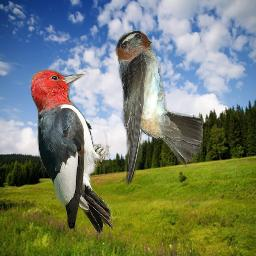Swallow: (115, 30, 203, 188)
Woodpecker: (31, 68, 116, 234)
